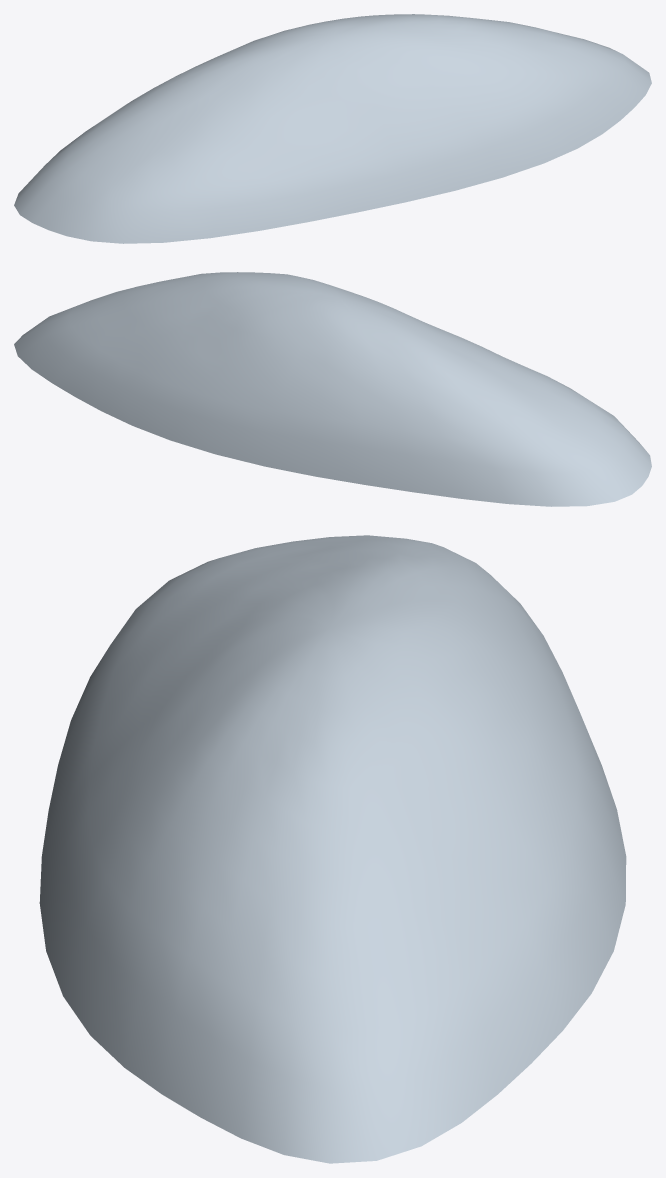
The model's file is snowdrift_02.glb.
The picture shows the model from 3 angles, top to bottom: view 1: azimuth 30°, elevation 25°; view 2: azimuth 150°, elevation 25°; view 3: azimuth 270°, elevation 25°; orthographic projection. The views are drawn at different scales.
Visible parts, largest first — view 1: snowdrift_02__m9_snow; view 2: snowdrift_02__m9_snow; view 3: snowdrift_02__m9_snow.
Boxes of the visible parts, left/top/right/bottom form: snowdrift_02__m9_snow: left=14, top=14, right=651, bottom=243; snowdrift_02__m9_snow: left=14, top=272, right=651, bottom=506; snowdrift_02__m9_snow: left=39, top=535, right=626, bottom=1163.
Size of the model in its own units: 3.81 by 0.68 by 1.57.
